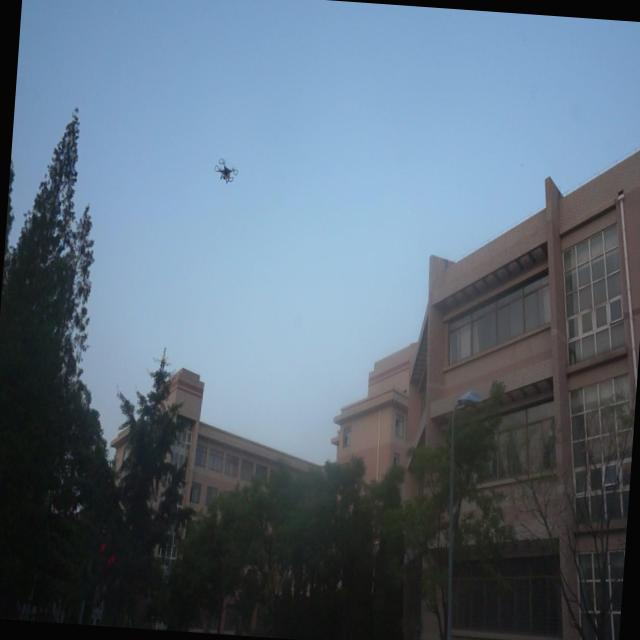drone: (210, 154, 240, 189)
